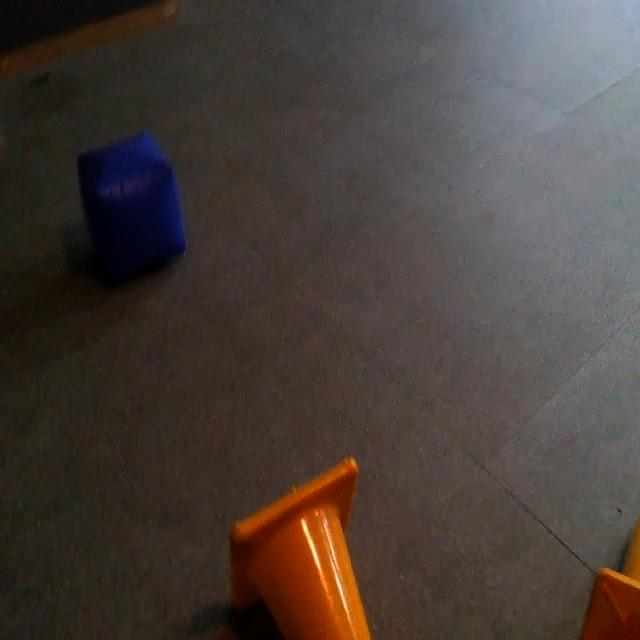cone: (224, 456, 374, 640), (578, 516, 639, 640)
cube: (72, 132, 184, 292)
